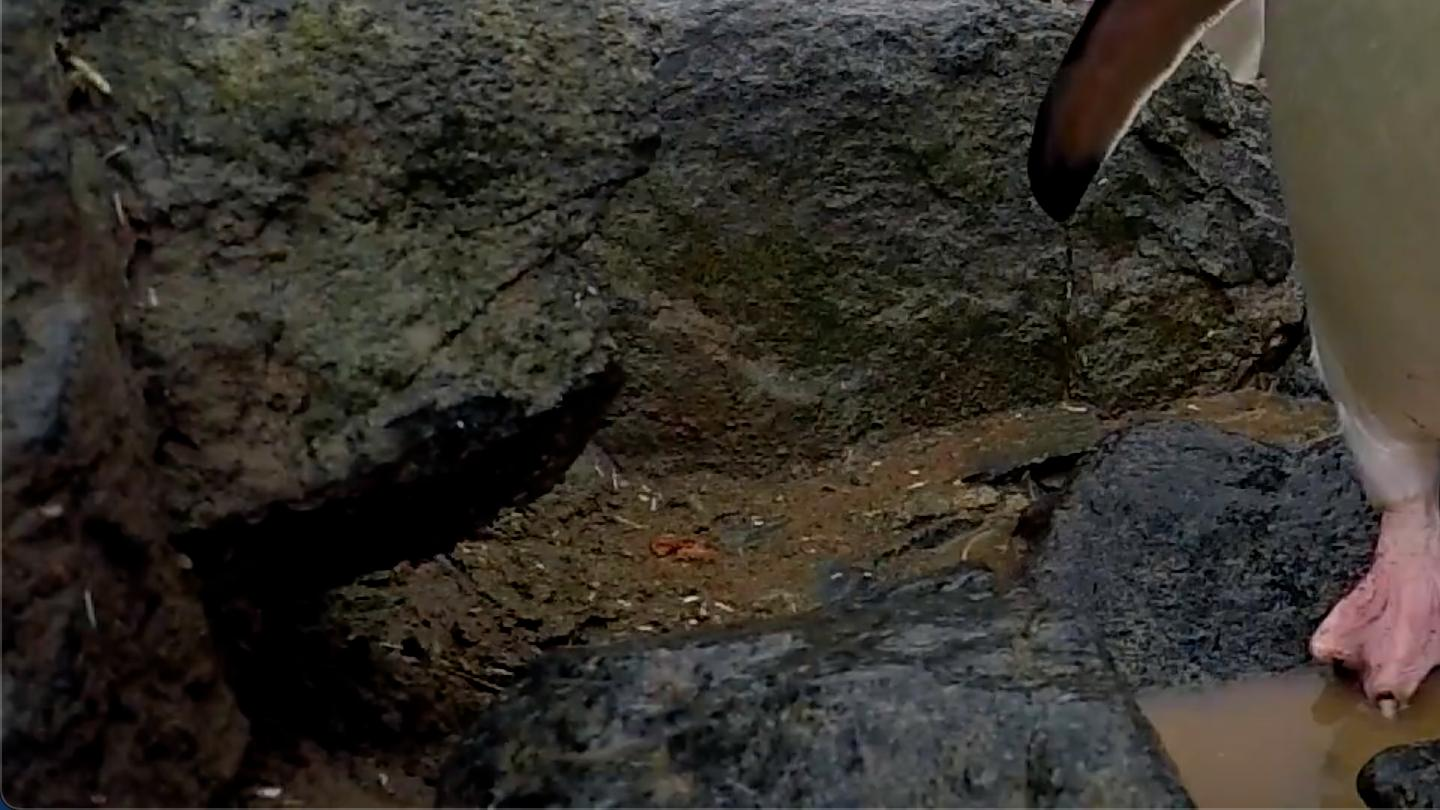Chinstrap Penguin: (1031, 0, 1440, 719), (950, 0, 1310, 116)
